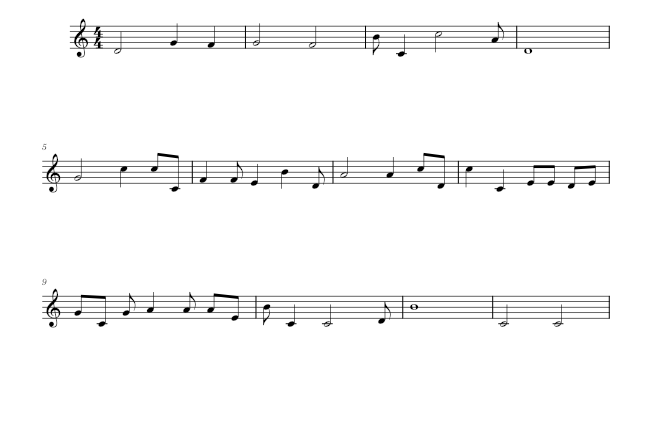Treble Clef: (69, 12, 91, 62), (43, 287, 64, 332), (43, 153, 64, 196)
